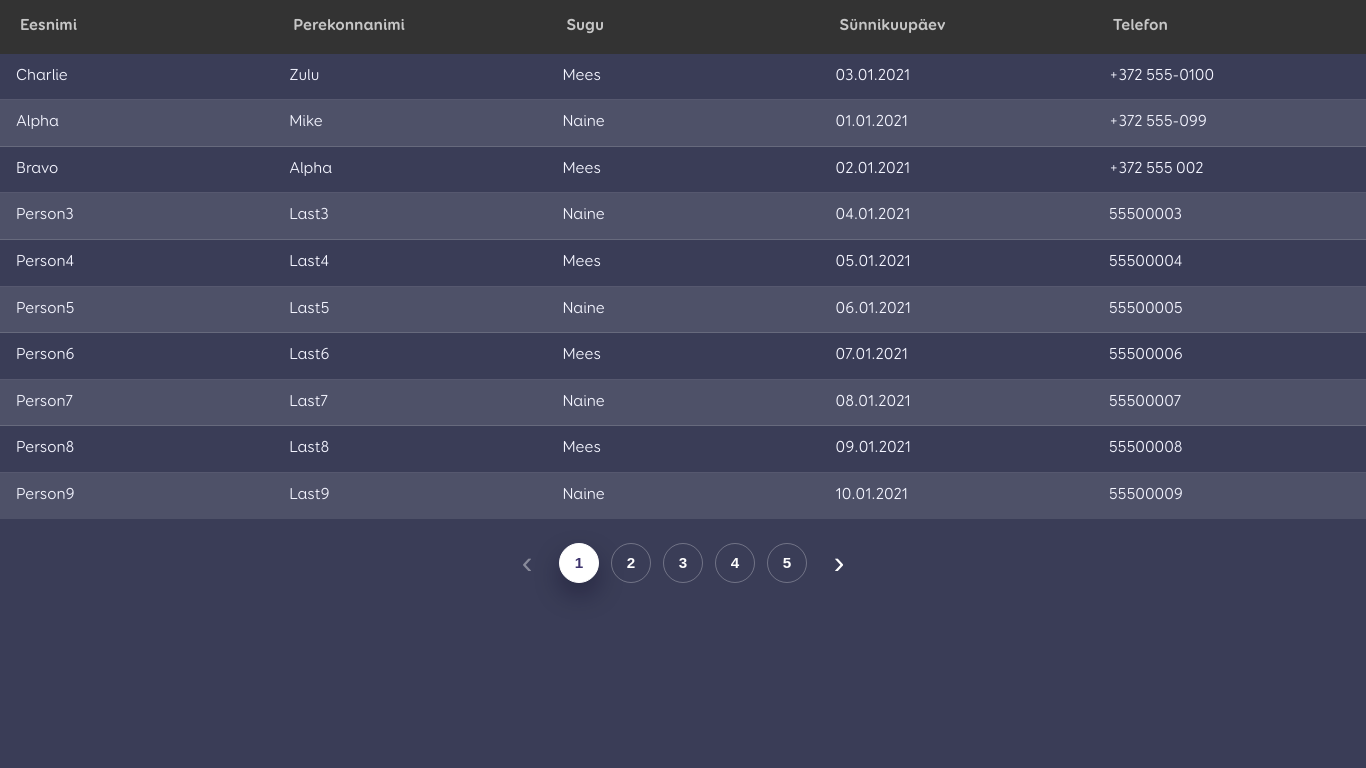
it: CustomTable › disables previous and next navigation at the bounds
Expected: the button named "Eelmine leht" is disabled, x1=507 y1=542 x2=547 y2=582
Expected: the button named "Järgmine leht" is enabled, x1=819 y1=542 x2=859 y2=582
Click the button "4" at (735, 562), box x1=715 y1=542 x2=755 y2=582
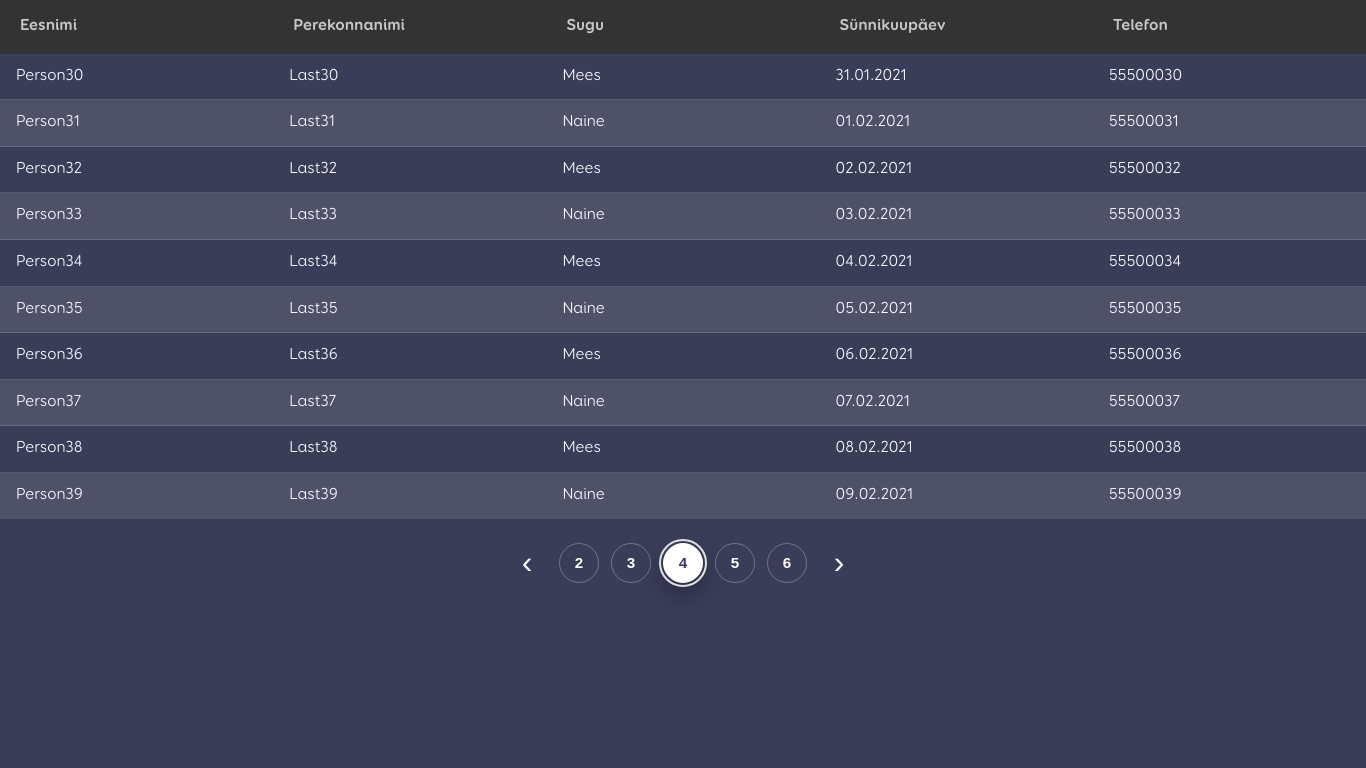
Click the button "6" at (787, 562), box x1=767 y1=542 x2=807 y2=582
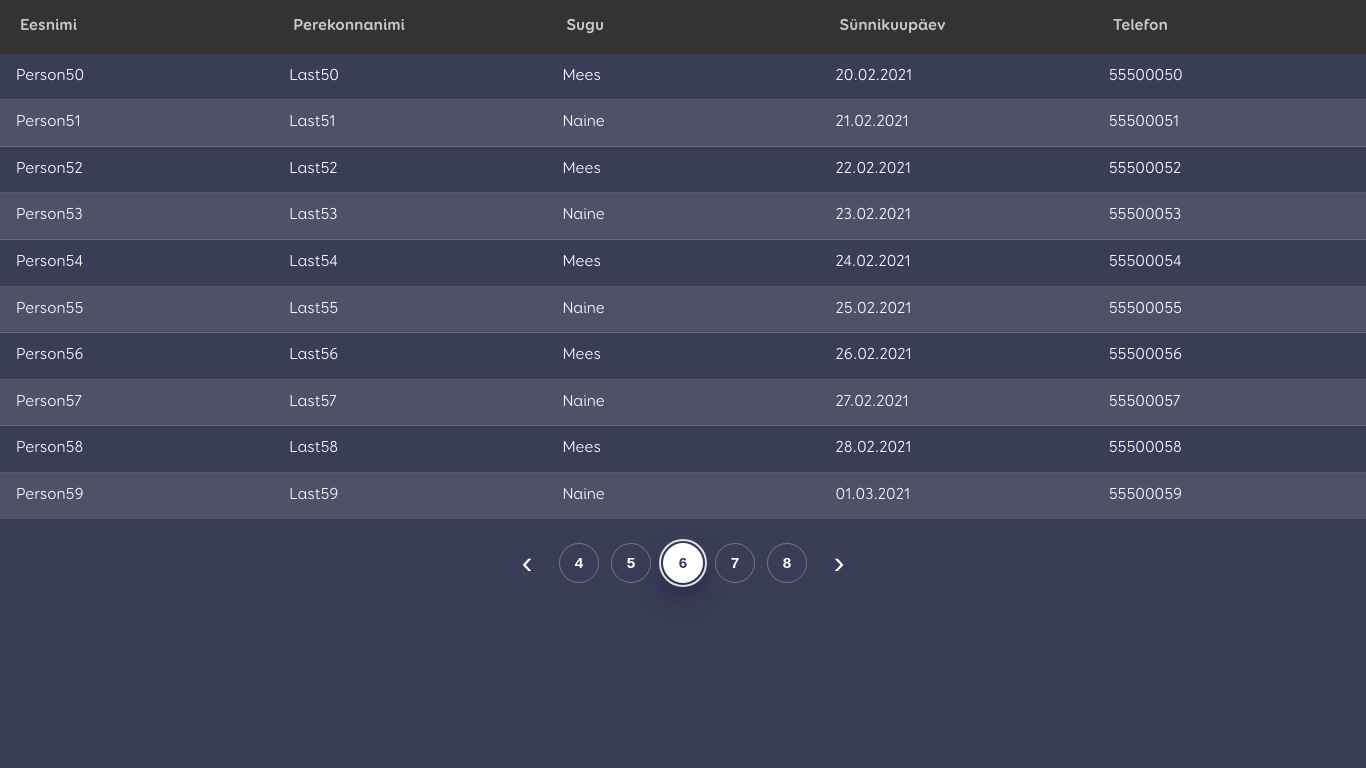
Click the button "8" at (787, 562), box x1=767 y1=542 x2=807 y2=582
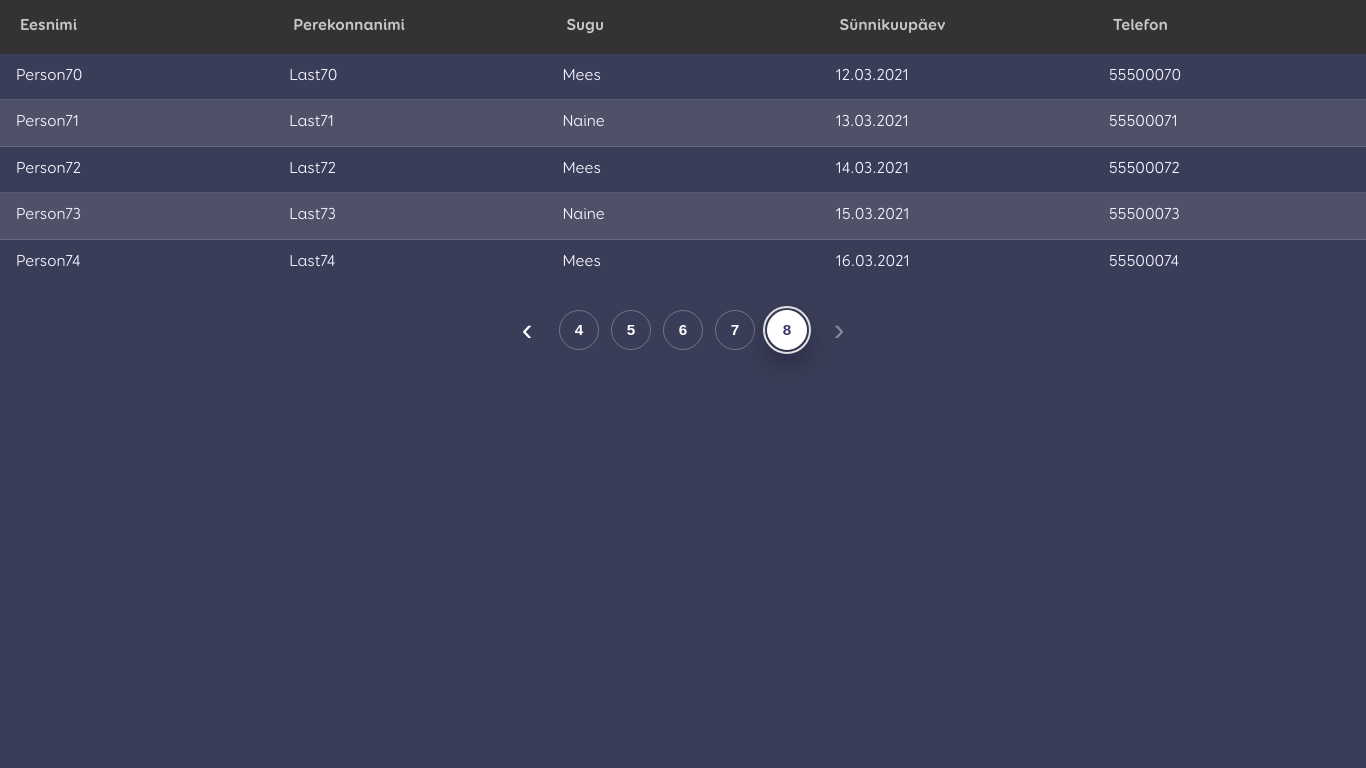
Result: the button named "Eelmine leht" is enabled at x1=507 y1=310 x2=547 y2=350
Result: the button named "Järgmine leht" is disabled at x1=819 y1=310 x2=859 y2=350
